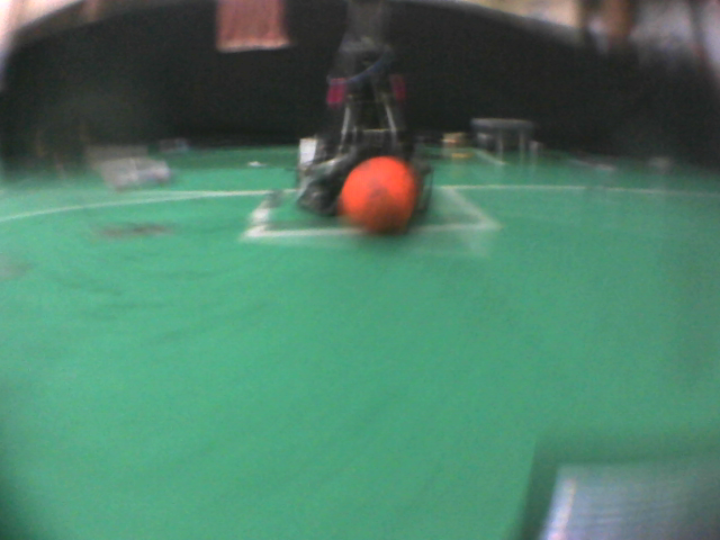bola: (334, 151, 421, 241)
